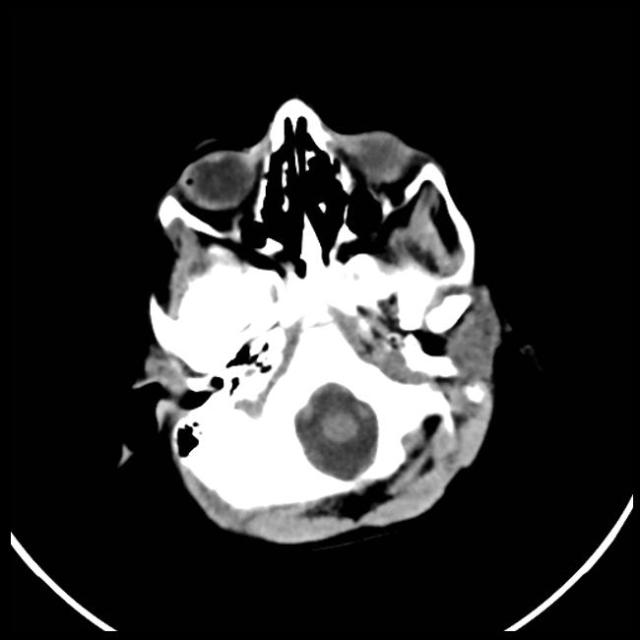lesion: (120, 94, 508, 548)
